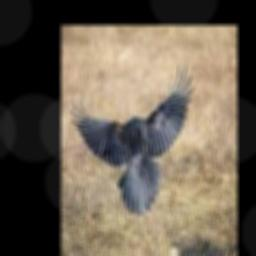Crow: (70, 62, 195, 214)
